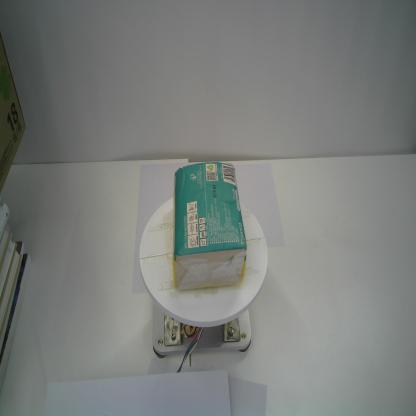Tissue: (172, 161, 246, 292)
